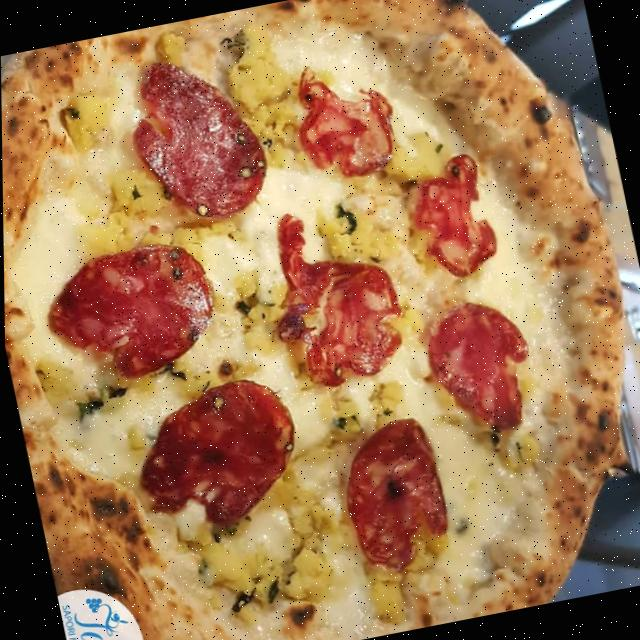pepperoni: (119, 368, 314, 544), (28, 233, 232, 399), (110, 39, 281, 233), (258, 192, 417, 400), (325, 415, 459, 581), (414, 292, 547, 452), (280, 49, 410, 193), (400, 147, 508, 290)
pizza: (0, 0, 640, 640)
